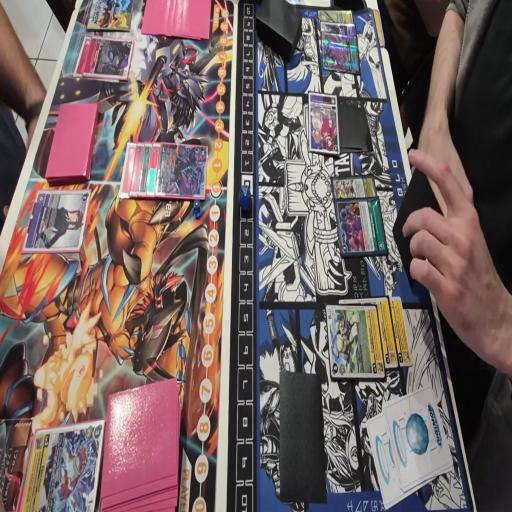card: (14, 417, 108, 512), (21, 191, 91, 255), (326, 306, 385, 380), (156, 144, 209, 200), (336, 196, 384, 256), (90, 39, 134, 85), (308, 91, 337, 157), (388, 295, 414, 364), (320, 35, 360, 75), (377, 296, 399, 367), (330, 175, 379, 202), (120, 143, 138, 199), (145, 142, 161, 197), (137, 140, 151, 196), (130, 141, 144, 197), (73, 37, 91, 79), (319, 20, 358, 35), (317, 8, 353, 23)
